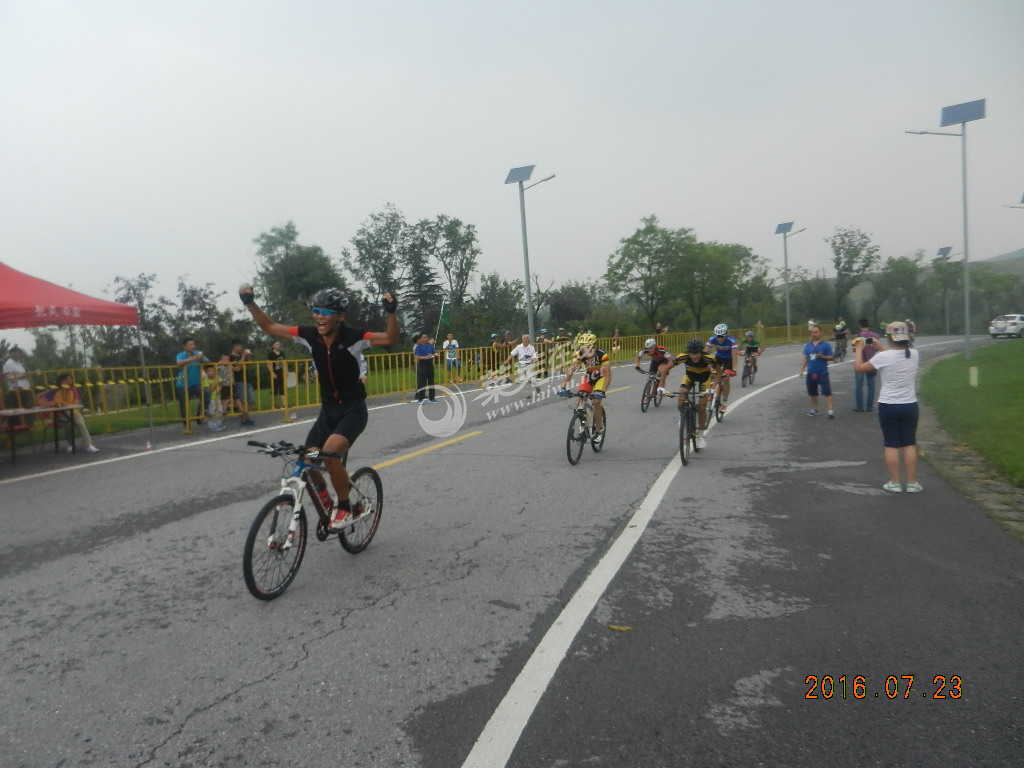handsup: (227, 264, 408, 554), (848, 309, 968, 505)
other: (553, 322, 634, 487), (655, 329, 730, 487)
